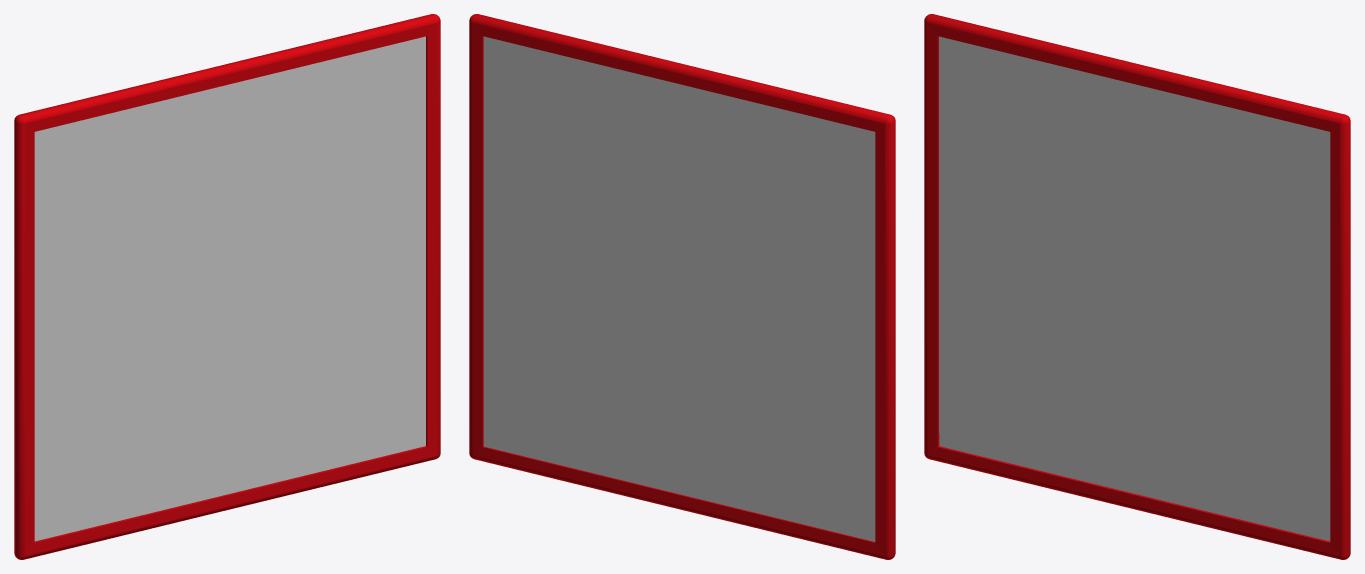
Rendered from Wall001.fbx.
The picture shows the model from 3 angles, left to right: view 1: azimuth 30°, elevation 25°; view 2: azimuth 150°, elevation 25°; view 3: azimuth 330°, elevation 25°; orthographic projection.
Parts seen in each view (by area): view 1: Wall, Wall001, Wall001Wall_Part_030, Wall001Wall_Part_025, Wall001Wall_Part_016, Wall001Wall_Part_017, Wall001Wall_Part_001, Wall001Wall_Part_011, Wall001Wall_Part_035, Wall001Wall_Part_034, Wall001Wall_Part_028, Wall001Wall_Part_023 (+13 smaller); view 2: Wall, Wall001, Wall001Wall_Part_008, Wall001Wall_Part_011, Wall001Wall_Part_035, Wall001Wall_Part_015, Wall001Wall_Part_028, Wall001Wall_Part_006, Wall001Wall_Part_025, Wall001Wall_Part_018, Wall001Wall_Part_031, Wall001Wall_Part_005 (+15 smaller); view 3: Wall, Wall001, Wall001Wall_Part_034, Wall001Wall_Part_030, Wall001Wall_Part_015, Wall001Wall_Part_016, Wall001Wall_Part_011, Wall001Wall_Part_017, Wall001Wall_Part_008, Wall001Wall_Part_001, Wall001Wall_Part_025, Wall001Wall_Part_009 (+17 smaller).
Part boxes in pixels (x1,y1,x2,y2): Wall: (34,36,425,535); Wall001: (14,14,440,559); Wall001Wall_Part_030: (109,277,218,401); Wall001Wall_Part_025: (105,107,261,235); Wall001Wall_Part_016: (34,293,116,422); Wall001Wall_Part_017: (236,266,343,344); Wall001Wall_Part_001: (169,301,277,409); Wall001Wall_Part_011: (79,126,162,304); Wall001Wall_Part_035: (136,75,282,161); Wall001Wall_Part_034: (34,369,171,469); Wall001Wall_Part_028: (34,458,129,541); Wall001Wall_Part_023: (342,108,425,194); Wall: (483,37,875,523); Wall001: (469,14,895,559); Wall001Wall_Part_008: (652,194,759,308); Wall001Wall_Part_011: (746,129,829,305); Wall001Wall_Part_035: (629,76,773,172); Wall001Wall_Part_015: (803,117,875,279); Wall001Wall_Part_028: (778,457,875,541); Wall001Wall_Part_006: (658,407,745,504); Wall001Wall_Part_025: (648,114,803,236); Wall001Wall_Part_018: (552,338,610,455); Wall001Wall_Part_031: (723,435,807,525); Wall001Wall_Part_005: (548,70,630,152); Wall: (939,36,1330,541); Wall001: (924,14,1350,559); Wall001Wall_Part_034: (939,310,1077,409); Wall001Wall_Part_030: (1015,238,1123,371); Wall001Wall_Part_015: (939,39,1011,206); Wall001Wall_Part_016: (939,221,1022,328); Wall001Wall_Part_011: (985,67,1068,248); Wall001Wall_Part_017: (1142,280,1248,383); Wall001Wall_Part_008: (1056,204,1163,304); Wall001Wall_Part_001: (1075,304,1183,391); Wall001Wall_Part_025: (1010,54,1166,206); Wall001Wall_Part_009: (1234,343,1314,424).
Size of the model in its own units: 2.66 by 2.66 by 0.0785.
